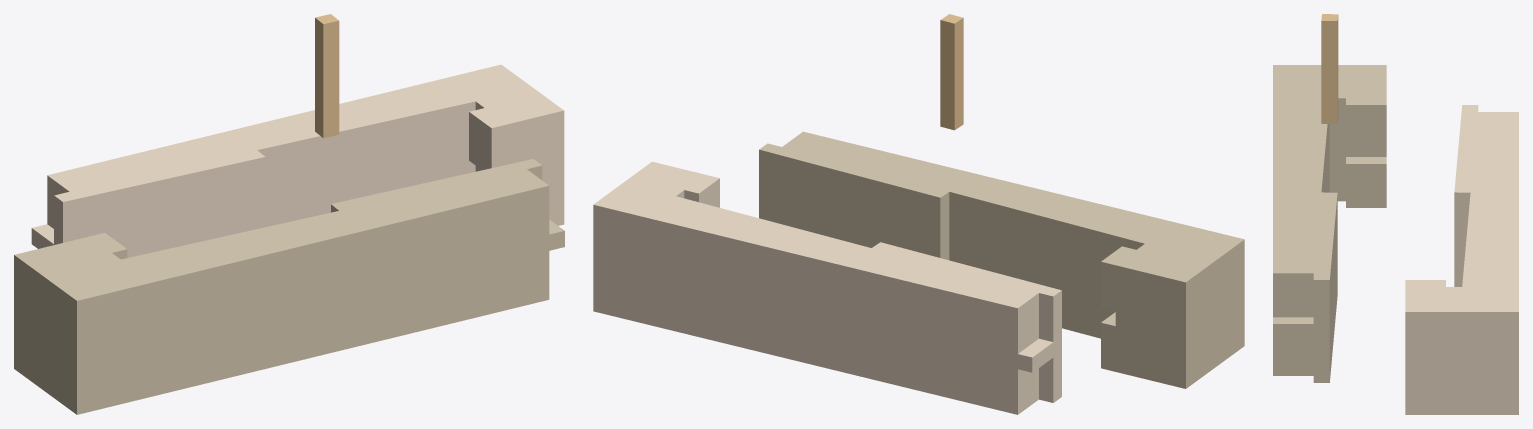
3 views of the same model, side by side, from view 1: azimuth 30°, elevation 25°; view 2: azimuth 150°, elevation 25°; view 3: azimuth 270°, elevation 25° (orthographic). The views are drawn at different scales.
Bounding box in the file's own units: 0.82 × 0.4252 × 0.3452.
